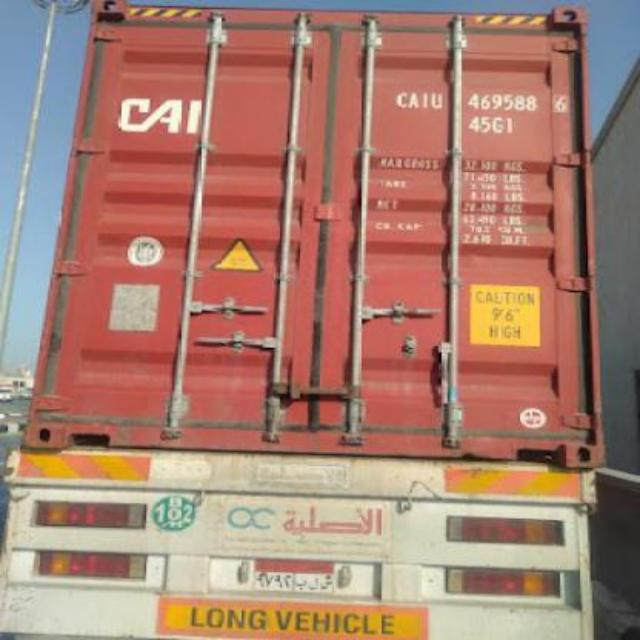4: (466, 85, 479, 109)
5: (502, 89, 512, 115)
6: (550, 92, 568, 115), (480, 90, 492, 114)
8: (524, 90, 536, 114), (514, 87, 524, 113)
9: (492, 89, 502, 113)
A: (406, 84, 419, 112)
C: (394, 87, 406, 113)
I: (420, 88, 430, 114)
U: (430, 85, 442, 111)
